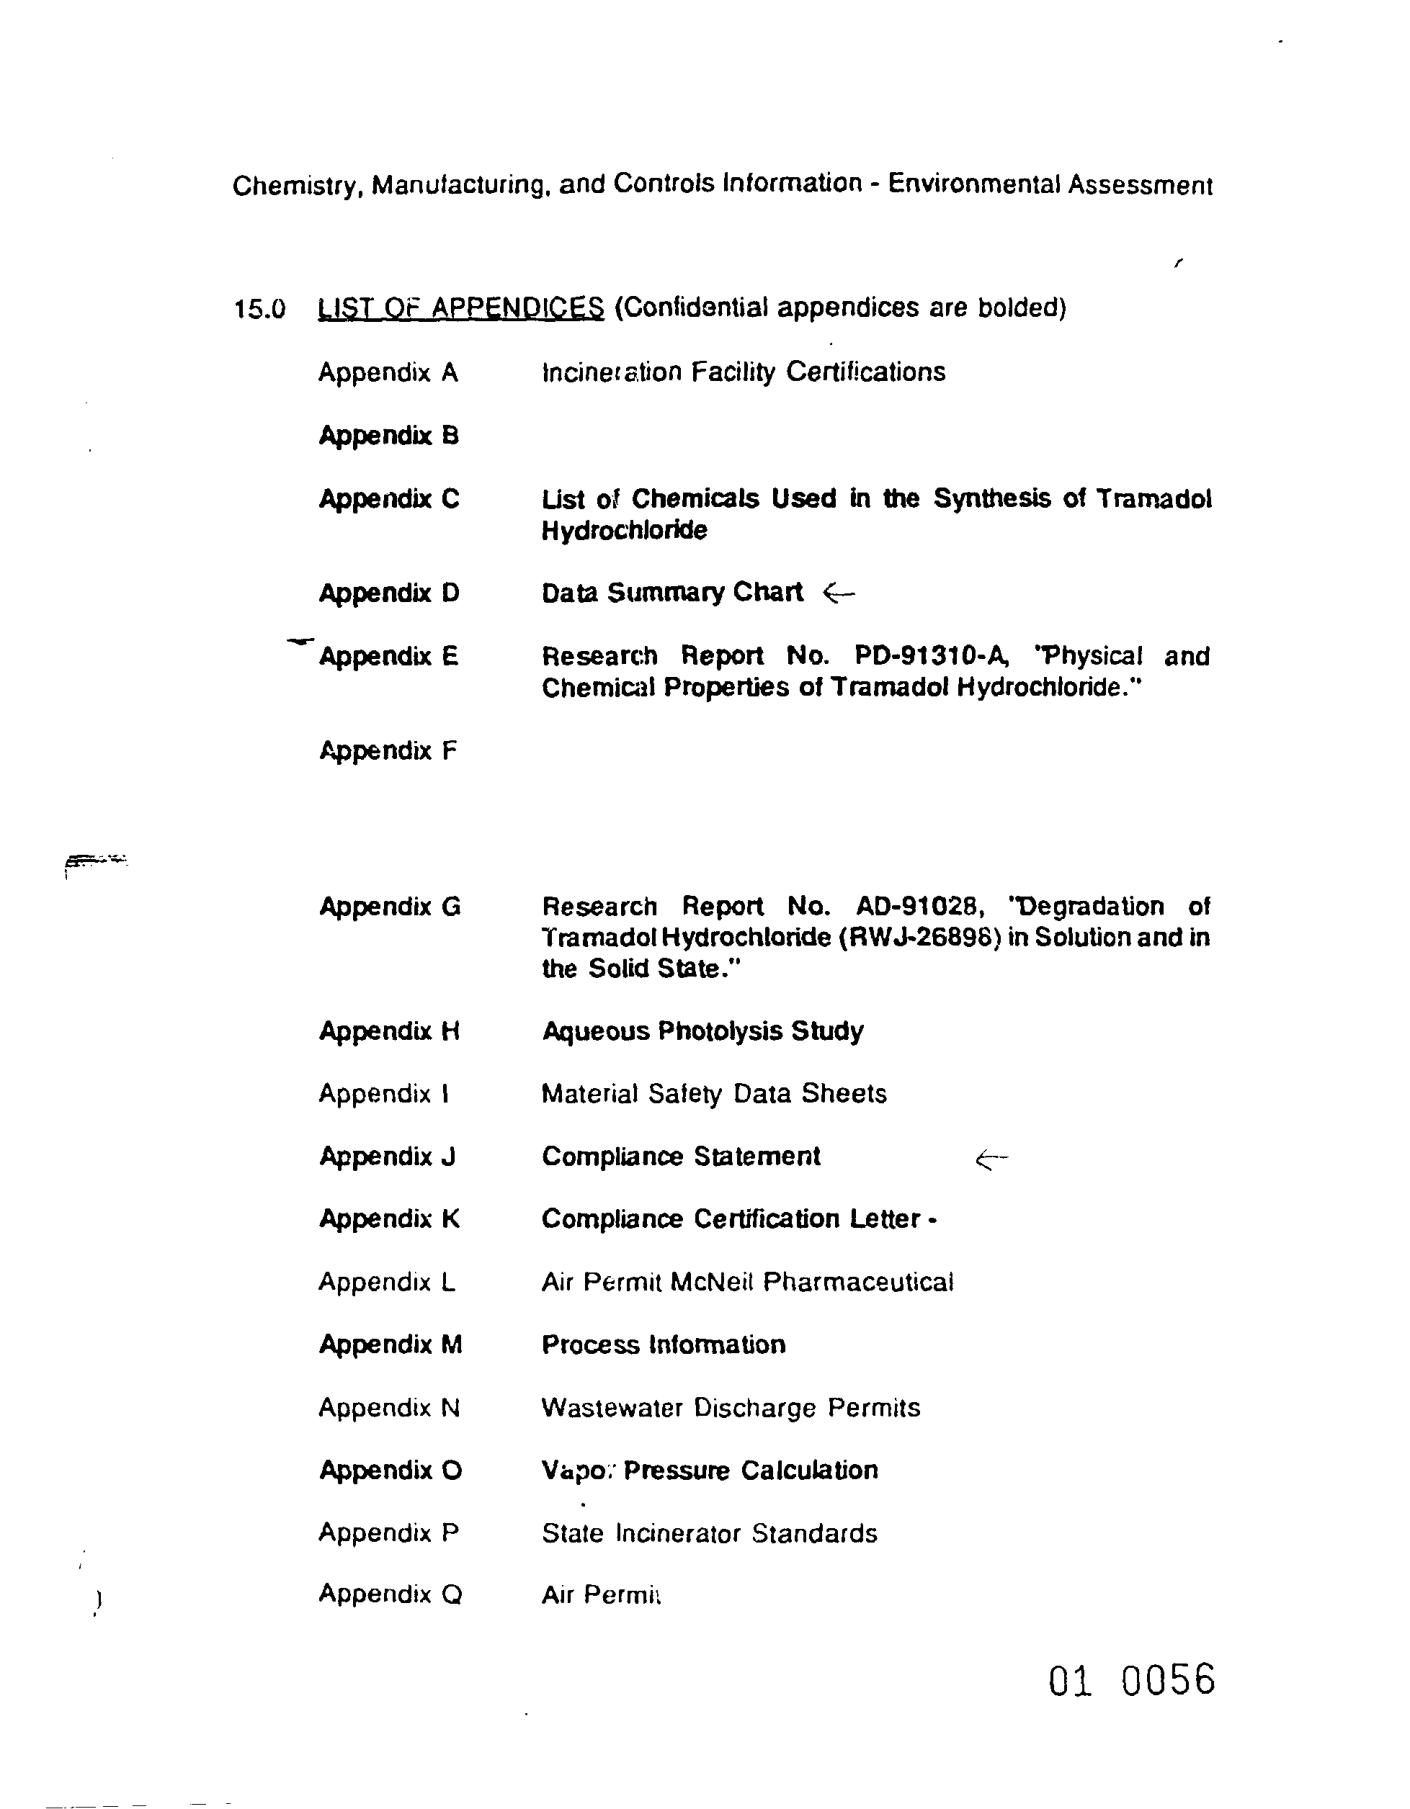nolines: (231, 289, 1219, 1611)
